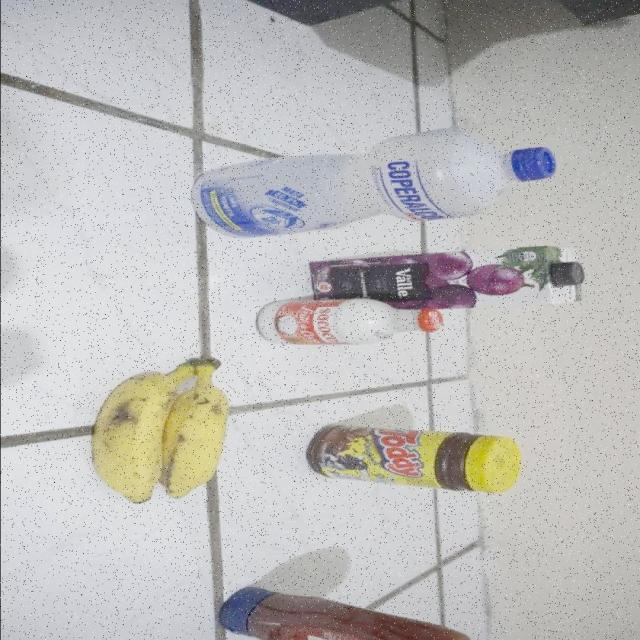AlcoholBottle: (188, 128, 560, 240)
Banana: (90, 353, 228, 507)
ChocolatePowder: (304, 424, 522, 494)
CoconutMilk: (256, 297, 442, 348)
Ketchup: (214, 585, 479, 640)
